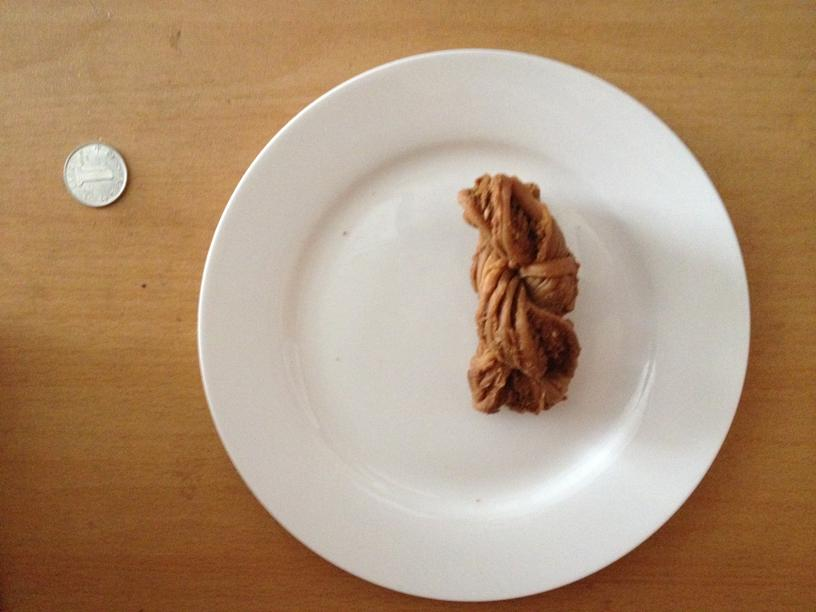coin: (60, 143, 130, 209)
fired_dough_twist: (456, 177, 578, 416)
